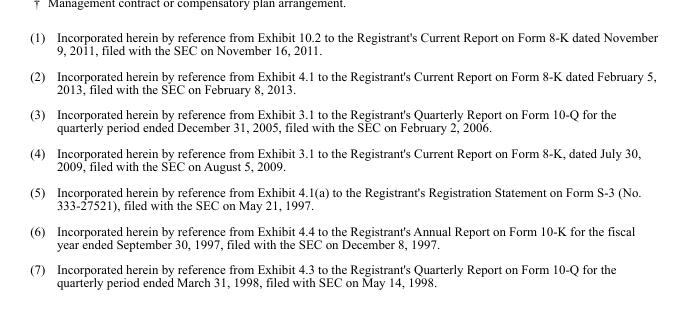table: (29, 29, 657, 289)
table column: (50, 29, 657, 289), (29, 29, 50, 289)
table row: (29, 62, 657, 101), (29, 139, 657, 178), (29, 178, 657, 217), (29, 217, 657, 256), (29, 101, 657, 139), (29, 29, 657, 62), (29, 256, 657, 289)
